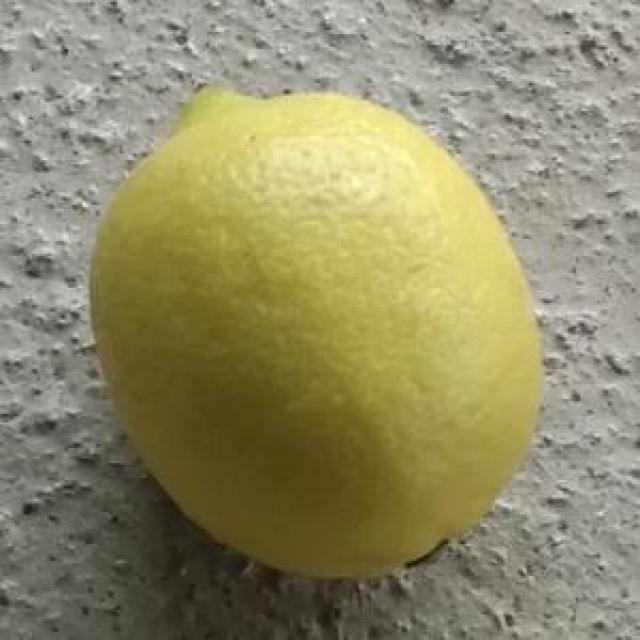lemon: (89, 86, 548, 584)
